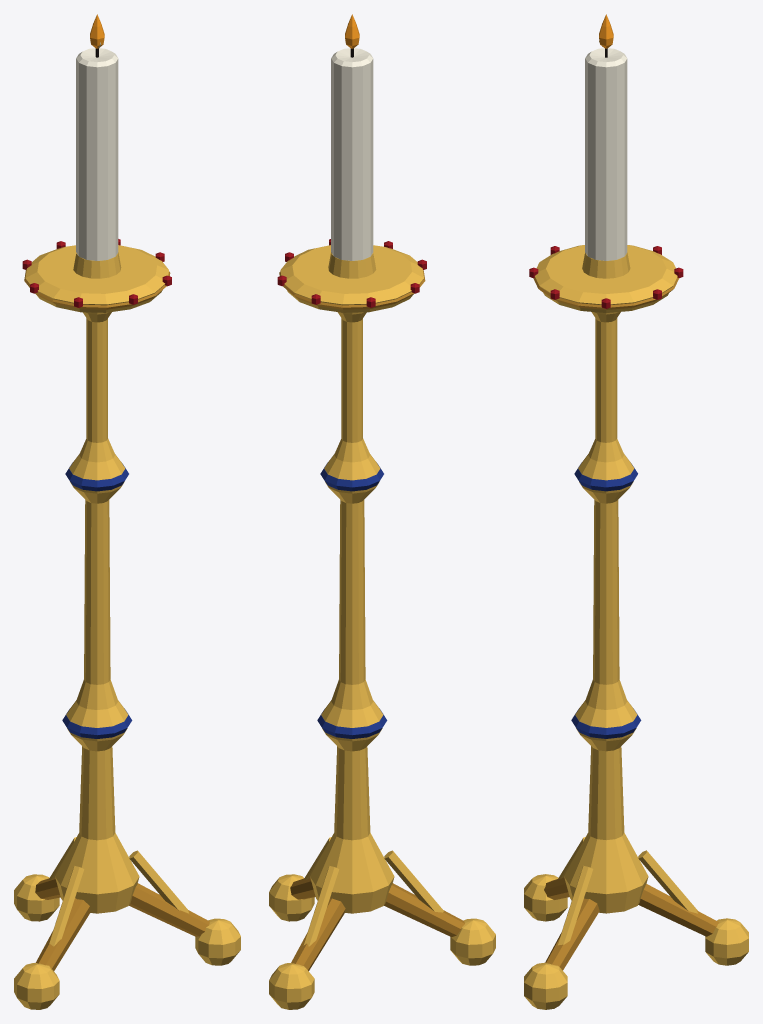
The model's file is candle_stand.obj.
3 renders of one model, left to right at view 1: azimuth 30°, elevation 25°; view 2: azimuth 150°, elevation 25°; view 3: azimuth 270°, elevation 25°, orthographic.
Parts seen in each view (by area): view 1: lathe.009, lathe.021, lathe.012, lathe.004, lathe.006, lathe.007, lathe.001, lathe.003, lathe.005, lathe.008, lathe.010, lathe.011 (+1 smaller); view 2: lathe.009, lathe.021, lathe.012, lathe.001, lathe.003, lathe.004, lathe.007, lathe, lathe.002, lathe.005, lathe.010, lathe.011 (+1 smaller); view 3: lathe.009, lathe.021, lathe.012, lathe.007, lathe.001, lathe, lathe.004, lathe.006, lathe.008, lathe.002, lathe.010, lathe.011 (+1 smaller).
Part boxes in pixels (<box>): lathe.009: <box>55,312,139,913</box>; lathe.021: <box>76,48,118,260</box>; lathe.012: <box>25,245,168,312</box>; lathe.004: <box>14,963,59,1009</box>; lathe.006: <box>129,883,209,936</box>; lathe.007: <box>195,918,240,965</box>; lathe.001: <box>14,874,59,921</box>; lathe.003: <box>35,898,89,970</box>; lathe.005: <box>49,866,84,946</box>; lathe.008: <box>129,850,188,913</box>; lathe.010: <box>62,708,132,738</box>; lathe.011: <box>65,462,128,491</box>; lathe.009: <box>310,312,394,913</box>; lathe.021: <box>331,48,373,260</box>; lathe.012: <box>280,245,423,312</box>; lathe.001: <box>269,963,314,1009</box>; lathe.003: <box>384,883,464,937</box>; lathe.004: <box>450,918,495,965</box>; lathe.007: <box>269,874,314,921</box>; lathe: <box>291,898,345,970</box>; lathe.002: <box>303,866,339,946</box>; lathe.005: <box>384,850,443,912</box>; lathe.010: <box>317,708,387,738</box>; lathe.011: <box>320,462,383,491</box>; lathe.009: <box>564,312,648,913</box>; lathe.021: <box>585,48,627,260</box>; lathe.012: <box>535,245,677,312</box>; lathe.007: <box>524,962,567,1009</box>; lathe.001: <box>705,918,748,965</box>; lathe: <box>638,884,719,936</box>; lathe.004: <box>524,874,567,921</box>; lathe.006: <box>545,898,599,970</box>; lathe.008: <box>558,865,593,945</box>; lathe.002: <box>638,850,697,913</box>; lathe.010: <box>571,708,641,738</box>; lathe.011: <box>574,462,637,491</box>.
Size of the model in its own units: 0.4225 by 1.74 by 0.3724.
